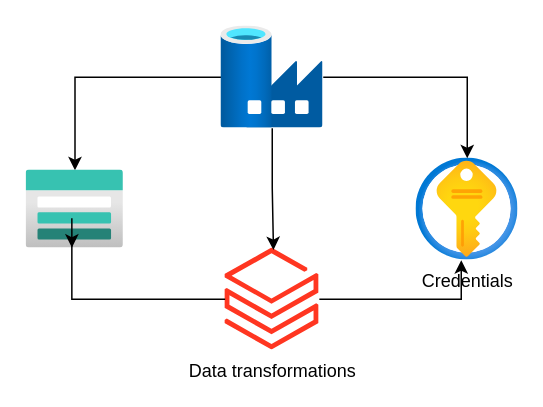
The diagram is 543 pixels wide and 407 high, and some of its shapes have lost their labels. Each missing label, with the centre of its shape:
Datalake: [74,209]
Orchestrates: [271,77]
